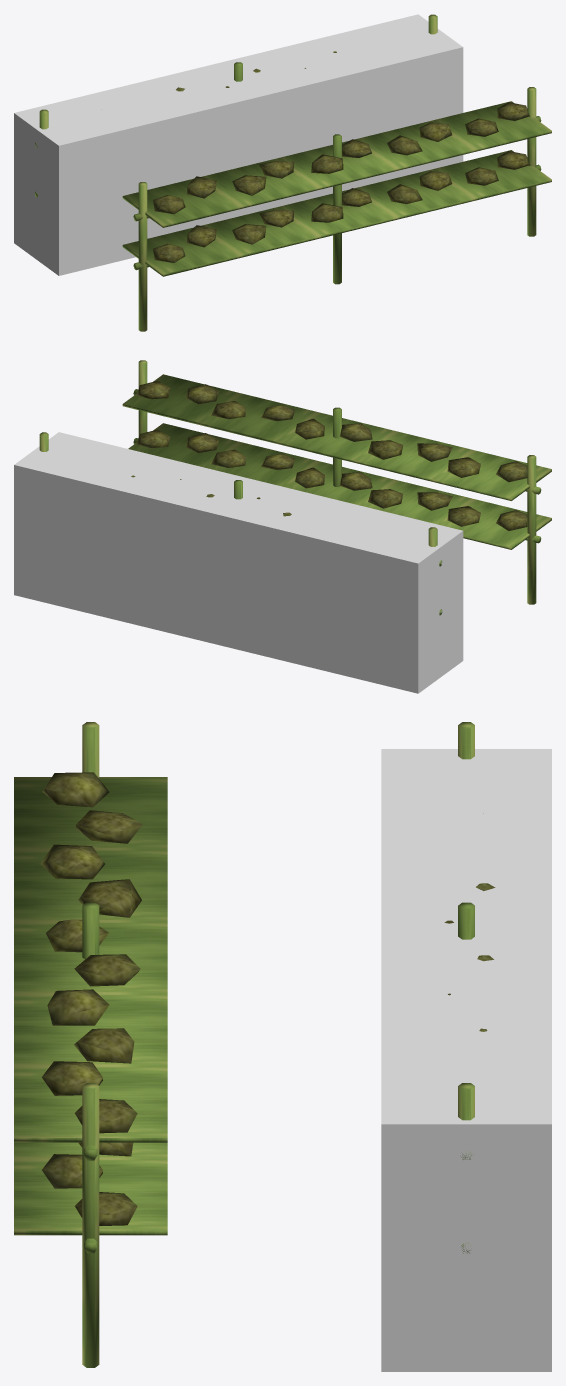
File: drying_racks.glb
3 renders of one model, top to bottom at view 1: azimuth 30°, elevation 25°; view 2: azimuth 150°, elevation 25°; view 3: azimuth 270°, elevation 25°, orthographic. The views are drawn at different scales.
Visible parts, largest first — view 1: Rack-convcolonly.001, Racks, Herbs; view 2: Rack-convcolonly.001, Racks, Herbs; view 3: Rack-convcolonly.001, Racks, Herbs.
Part boxes in pixels (x1=…): Rack-convcolonly.001: x1=14, y1=14, x2=463, y2=275; Racks: x1=34, y1=14, x2=551, y2=331; Herbs: x1=153, y1=51, x2=529, y2=262; Rack-convcolonly.001: x1=14, y1=432, x2=463, y2=693; Racks: x1=39, y1=360, x2=551, y2=615; Herbs: x1=131, y1=381, x2=527, y2=530; Rack-convcolonly.001: x1=381, y1=749, x2=551, y2=1371; Racks: x1=14, y1=722, x2=474, y2=1367; Herbs: x1=41, y1=772, x2=495, y2=1225.
Size of what is drawn, in the model's own units: 5.2 by 1.8 by 3.15.
2 materials, 2 textured.
